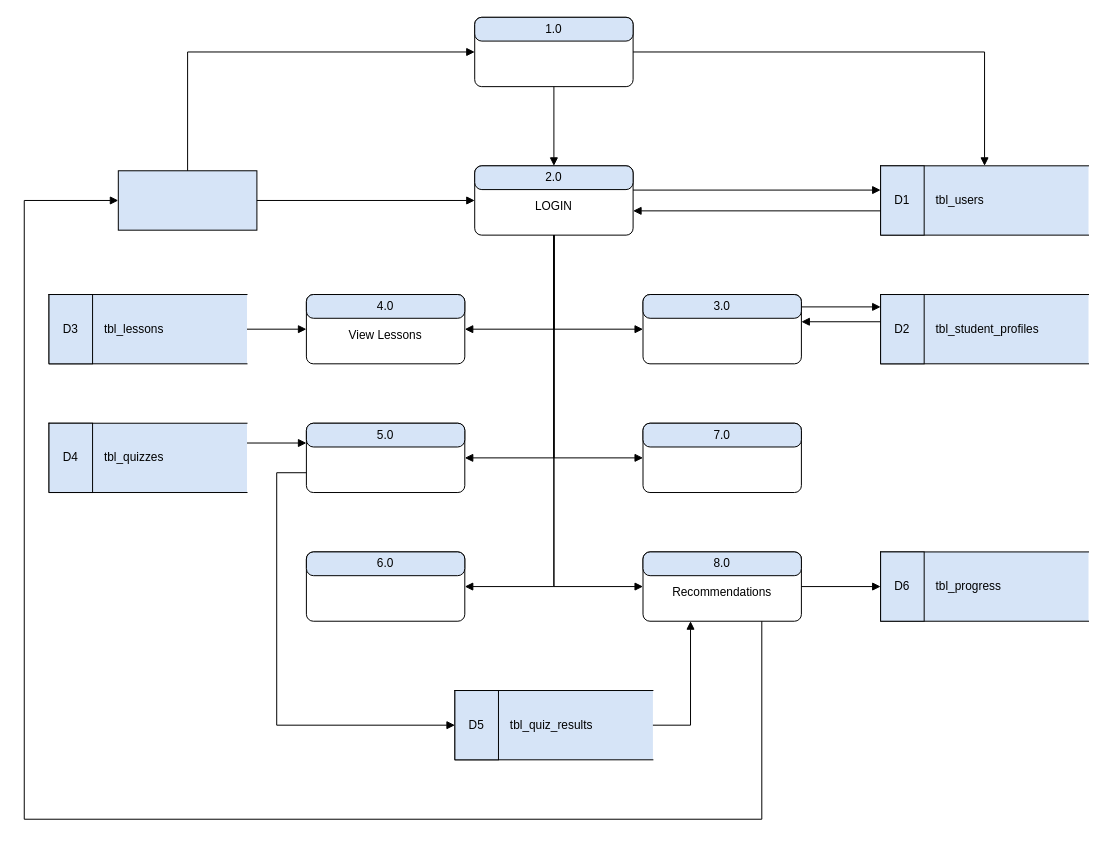
Image size: 1106x844. Some labels were removed from this diagram. Here are the shapes that lost their labels. From the top down, the box of each, then its label:
(474, 16, 633, 87): SIGN UP
(117, 170, 257, 230): Student
(642, 294, 801, 364): Manage Profile
(305, 422, 465, 493): Take Quiz
(642, 422, 801, 493): AI Tutor
(305, 551, 465, 621): Run Java Code
